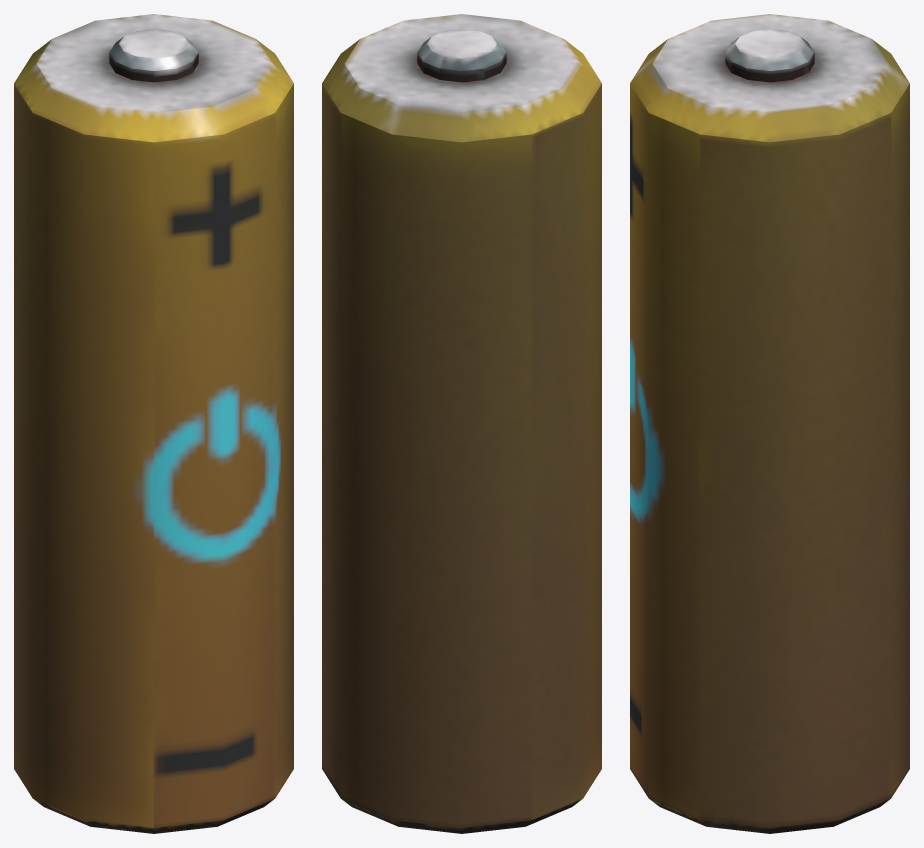
Rendered from battery_01.fbx.
3 renders of one model, left to right at view 1: azimuth 30°, elevation 25°; view 2: azimuth 150°, elevation 25°; view 3: azimuth 270°, elevation 25°, orthographic.
Parts seen in each view (by area): view 1: battery_01; view 2: battery_01; view 3: battery_01.
Part boxes in pixels (<box>): battery_01: <box>14,14,293,833</box>; battery_01: <box>322,14,601,833</box>; battery_01: <box>630,14,909,833</box>.
Size of the model in its own units: 0.1168 by 0.3389 by 0.1168.
